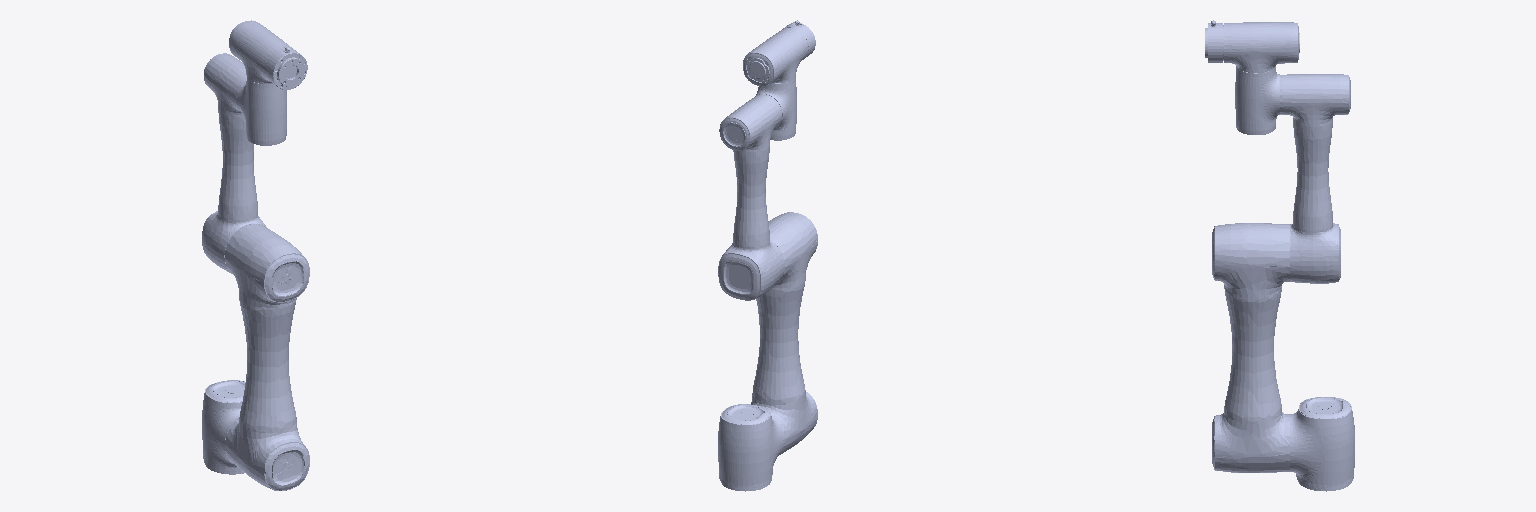
The robot description file, URDF, robot "cr5_robot":
<?xml version="1.0" ?>
<!-- =================================================================================== -->
<!-- |    This document was autogenerated by xacro from /tmp/claude-0/-home-claude/8f5dd28e-fe63-5f45-8f7e-d1a0395364a9/scratchpad/repos/dobotcr/cra_description/urdf/cr5_robot.xacro | -->
<!-- |    EDITING THIS FILE BY HAND IS NOT RECOMMENDED                                 | -->
<!-- =================================================================================== -->
<robot name="cr5_robot">
  <link name="dummy_link"/>
  <link name="base_link">
    <inertial>
      <origin rpy="0 0 0" xyz="-7.94481692926771E-06 0.00312979848669993 0.0289305341801692"/>
      <mass value="0.921803441591401"/>
      <inertia ixx="0.00155218443258025" ixy="4.57972945608826E-08" ixz="-1.88985548171397E-07" iyy="0.0013468290665964" iyz="-1.49049888586631E-06" izz="0.00225259728822295"/>
    </inertial>
    <visual>
      <origin rpy="0 0 0" xyz="0 0 0"/>
      <geometry>
        <mesh filename="package://cra_description/meshes/base_link.STL"/>
      </geometry>
      <material name="">
        <color rgba="0.792156862745098 0.819607843137255 0.933333333333333 1"/>
      </material>
    </visual>
    <collision>
      <origin rpy="0 0 0" xyz="0 0 0"/>
      <geometry>
        <mesh filename="package://cra_description/meshes/base_link.STL"/>
      </geometry>
    </collision>
  </link>
  <joint name="dummy_joint" type="fixed">
    <parent link="dummy_link"/>
    <child link="base_link"/>
  </joint>
  <link name="world"/>
  <joint name="world_joint" type="fixed">
    <origin rpy="0 0 0" xyz="0 0 0.03"/>
    <parent link="world"/>
    <child link="dummy_link"/>
  </joint>
  <link name="Link1">
    <inertial>
      <origin rpy="0 0 0" xyz="1.73246183103459E-07 -0.00325457191611467 -0.00763347019440543"/>
      <mass value="1.61309076753593"/>
      <inertia ixx="0.00546783618974324" ixy="1.55105105896333E-09" ixz="-7.41656921043421E-08" iyy="0.00525034621721433" iyz="-9.78846785618848E-05" izz="0.00340956817185818"/>
    </inertial>
    <visual>
      <origin rpy="0 0 0" xyz="0 0 0"/>
      <geometry>
        <mesh filename="package://cra_description/meshes/J1.STL"/>
      </geometry>
      <material name="">
        <color rgba="0.792156862745098 0.819607843137255 0.933333333333333 1"/>
      </material>
    </visual>
    <collision>
      <origin rpy="0 0 0" xyz="0 0 0"/>
      <geometry>
        <mesh filename="package://cra_description/meshes/J1.STL"/>
      </geometry>
    </collision>
  </link>
  <joint name="joint1" type="revolute">
    <origin rpy="0 0 0" xyz="0 0 0.147"/>
    <parent link="base_link"/>
    <child link="Link1"/>
    <axis xyz="0 0 1"/>
    <limit effort="0" lower="-6.28" upper="6.28" velocity="0"/>
  </joint>
  <link name="Link2">
    <inertial>
      <origin rpy="0 0 0" xyz="-0.213514541447242 -0.000174145825908622 0.142532293229243"/>
      <mass value="5.52502766431306"/>
      <inertia ixx="0.0135390102321012" ixy="-0.000132792191512557" ixz="1.08942594671362E-06" iyy="0.175351190928579" iyz="-1.55761894405212E-07" izz="0.171155665794094"/>
    </inertial>
    <visual>
      <origin rpy="0 0 0" xyz="0 0 0"/>
      <geometry>
        <mesh filename="package://cra_description/meshes/J2.STL"/>
      </geometry>
      <material name="">
        <color rgba="0.792156862745098 0.819607843137255 0.933333333333333 1"/>
      </material>
    </visual>
    <collision>
      <origin rpy="0 0 0" xyz="0 0 0"/>
      <geometry>
        <mesh filename="package://cra_description/meshes/J2.STL"/>
      </geometry>
    </collision>
  </link>
  <joint name="joint2" type="revolute">
    <origin rpy="1.5708 1.5708 0" xyz="0 0 0"/>
    <parent link="Link1"/>
    <child link="Link2"/>
    <axis xyz="0 0 1"/>
    <limit effort="0" lower="-6.28" upper="6.28" velocity="0"/>
  </joint>
  <link name="Link3">
    <inertial>
      <origin rpy="0 0 0" xyz="-0.152341668261688 0.000149359452503151 0.0226831470311876"/>
      <mass value="2.85389421082174"/>
      <inertia ixx="0.00426233866492008" ixy="5.97680353890416E-05" ixz="0.00145366515031237" iyy="0.0651295114823361" iyz="-1.39806459057094E-06" izz="0.0643864464792015"/>
    </inertial>
    <visual>
      <origin rpy="0 0 0" xyz="0 0 0"/>
      <geometry>
        <mesh filename="package://cra_description/meshes/J3.STL"/>
      </geometry>
      <material name="">
        <color rgba="0.792156862745098 0.819607843137255 0.933333333333333 1"/>
      </material>
    </visual>
    <collision>
      <origin rpy="0 0 0" xyz="0 0 0"/>
      <geometry>
        <mesh filename="package://cra_description/meshes/J3.STL"/>
      </geometry>
    </collision>
  </link>
  <joint name="joint3" type="revolute">
    <origin rpy="0 0 0" xyz="-0.427 -0.00034866 0"/>
    <parent link="Link2"/>
    <child link="Link3"/>
    <axis xyz="0 0 1"/>
    <limit effort="0" lower="-2.792" upper="2.792" velocity="0"/>
  </joint>
  <link name="Link4">
    <inertial>
      <origin rpy="0 0 0" xyz="5.59497173461253E-08 -0.00203370549966442 -0.00155327517554493"/>
      <mass value="0.670967728058518"/>
      <inertia ixx="0.00165215048696393" ixy="6.99884063757388E-10" ixz="-2.82735061927927E-09" iyy="0.000679018426564622" iyz="-3.9331196747873E-05" izz="0.00161207334026771"/>
    </inertial>
    <visual>
      <origin rpy="0 0 0" xyz="0 0 0"/>
      <geometry>
        <mesh filename="package://cra_description/meshes/J4.STL"/>
      </geometry>
      <material name="">
        <color rgba="0.792156862745098 0.819607843137255 0.933333333333333 1"/>
      </material>
    </visual>
    <collision>
      <origin rpy="0 0 0" xyz="0 0 0"/>
      <geometry>
        <mesh filename="package://cra_description/meshes/J4.STL"/>
      </geometry>
    </collision>
  </link>
  <joint name="joint4" type="revolute">
    <origin rpy="0 0 -1.5708" xyz="-0.357 0.00034866 0.141"/>
    <parent link="Link3"/>
    <child link="Link4"/>
    <axis xyz="0 0 1"/>
    <limit effort="0" lower="-6.28" upper="6.28" velocity="0"/>
  </joint>
  <link name="Link5">
    <inertial>
      <origin rpy="0 0 0" xyz="1.66839344582068E-08 -0.00612503200433553 -0.00127182253467861"/>
      <mass value="0.741136954745254"/>
      <inertia ixx="0.00212858333782698" ixy="-3.05114118302956E-08" ixz="1.84587334372261E-08" iyy="0.000739514141641333" iyz="5.38479498016834E-05" izz="0.00208815449047131"/>
    </inertial>
    <visual>
      <origin rpy="0 0 0" xyz="0 0 0"/>
      <geometry>
        <mesh filename="package://cra_description/meshes/J5.STL"/>
      </geometry>
      <material name="">
        <color rgba="0.792156862745098 0.819607843137255 0.933333333333333 1"/>
      </material>
    </visual>
    <collision>
      <origin rpy="0 0 0" xyz="0 0 0"/>
      <geometry>
        <mesh filename="package://cra_description/meshes/J5.STL"/>
      </geometry>
    </collision>
  </link>
  <joint name="joint5" type="revolute">
    <origin rpy="1.5708 0 0" xyz="0 -0.116 0"/>
    <parent link="Link4"/>
    <child link="Link5"/>
    <axis xyz="0 0 1"/>
    <limit effort="0" lower="-6.28" upper="6.28" velocity="0"/>
  </joint>
  <link name="Link6">
    <inertial>
      <origin rpy="0 0 0" xyz="4.94396980619616E-11 9.3763228635857E-05 -0.019285436425589"/>
      <mass value="0.157885369717385"/>
      <inertia ixx="7.94006759268348E-05" ixy="4.6621042011945E-15" ixz="2.94413450080265E-14" iyy="7.91691792019657E-05" iyz="-9.61313747365424E-08" izz="0.000130860179835048"/>
    </inertial>
    <visual>
      <origin rpy="0 0 0" xyz="0 0 0"/>
      <geometry>
        <mesh filename="package://cra_description/meshes/J6.STL"/>
      </geometry>
      <material name="">
        <color rgba="0.792156862745098 0.819607843137255 0.933333333333333 1"/>
      </material>
    </visual>
    <collision>
      <origin rpy="0 0 0" xyz="0 0 0"/>
      <geometry>
        <mesh filename="package://cra_description/meshes/J6.STL"/>
      </geometry>
    </collision>
  </link>
  <joint name="joint6" type="revolute">
    <origin rpy="-1.5708 0 0" xyz="0 0.105 0"/>
    <parent link="Link5"/>
    <child link="Link6"/>
    <axis xyz="0 0 1"/>
    <limit effort="0" lower="-6.28" upper="6.28" velocity="0"/>
  </joint>
  <gazebo reference="base_link">
    <gravity>false</gravity>
    <selfCollide>true</selfCollide>
  </gazebo>
  <gazebo reference="Link1">
    <gravity>false</gravity>
    <selfCollide>true</selfCollide>
  </gazebo>
  <gazebo reference="Link2">
    <gravity>false</gravity>
    <selfCollide>true</selfCollide>
  </gazebo>
  <gazebo reference="Link3">
    <gravity>false</gravity>
    <selfCollide>true</selfCollide>
  </gazebo>
  <gazebo reference="Link4">
    <gravity>false</gravity>
    <selfCollide>true</selfCollide>
  </gazebo>
  <gazebo reference="Link5">
    <gravity>false</gravity>
    <selfCollide>true</selfCollide>
  </gazebo>
  <gazebo reference="Link6">
    <gravity>false</gravity>
    <selfCollide>true</selfCollide>
  </gazebo>
  <!-- 在运行demo.launch.py时，需要注释这个ros2_control节点，因为它使用了xxx.ros2_control.xacro来生成了ros2_control节点-->
  <ros2_control name="GazeboSystem" type="system">
    <hardware>
      <plugin>gazebo_ros2_control/GazeboSystem</plugin>
    </hardware>
    <joint name="joint1">
      <command_interface name="position">
        <param name="min">-1</param>
        <param name="max">1</param>
      </command_interface>
      <state_interface name="position">
        <param name="initial_value">0.0</param>
      </state_interface>
      <state_interface name="velocity"/>
    </joint>
    <joint name="joint2">
      <command_interface name="position">
        <param name="min">-1</param>
        <param name="max">1</param>
      </command_interface>
      <state_interface name="position">
        <param name="initial_value">0.0</param>
      </state_interface>
      <state_interface name="velocity"/>
    </joint>
    <joint name="joint3">
      <command_interface name="position">
        <param name="min">-1</param>
        <param name="max">1</param>
      </command_interface>
      <state_interface name="position">
        <param name="initial_value">0.0</param>
      </state_interface>
      <state_interface name="velocity"/>
    </joint>
    <joint name="joint4">
      <command_interface name="position">
        <param name="min">-1</param>
        <param name="max">1</param>
      </command_interface>
      <state_interface name="position">
        <param name="initial_value">0.0</param>
      </state_interface>
      <state_interface name="velocity"/>
    </joint>
    <joint name="joint5">
      <command_interface name="position">
        <param name="min">-1</param>
        <param name="max">1</param>
      </command_interface>
      <state_interface name="position">
        <param name="initial_value">0.0</param>
      </state_interface>
      <state_interface name="velocity"/>
    </joint>
    <joint name="joint6">
      <command_interface name="position">
        <param name="min">-1</param>
        <param name="max">1</param>
      </command_interface>
      <state_interface name="position">
        <param name="initial_value">0.0</param>
      </state_interface>
      <state_interface name="velocity"/>
    </joint>
  </ros2_control>
  <gazebo>
    <plugin filename="libgazebo_ros2_control.so" name="gazebo_ros2_control">
      <parameters> /tmp/claude-0/-home-claude/8f5dd28e-fe63-5f45-8f7e-d1a0395364a9/scratchpad/repos/dobotcr/cr5_moveit/config/ros2_controllers.yaml</parameters>
      <robot_param_node>robot_state_publisher</robot_param_node>
    </plugin>
  </gazebo>
</robot>

--- Facts derived from the render (not from the file) ---
The picture shows the robot from 3 angles, left to right: view 1: azimuth 30°, elevation 25°; view 2: azimuth 150°, elevation 25°; view 3: azimuth 270°, elevation 25°; orthographic projection.
Model cr5_robot with 9 links and 8 joints (6 revolute, 2 fixed), rooted at world, posed every joint at zero.
Visible links, largest first — view 1: Link2, Link3, Link1, Link4, Link5, Link6; view 2: Link2, Link3, Link1, Link5, Link4; view 3: Link2, Link3, Link1, Link5, Link4, Link6.
Link boxes in pixels (x1,y1,x2,y2): Link2: (225,224,309,490); Link3: (202,53,265,273); Link1: (202,380,245,474); Link4: (237,78,286,145); Link5: (229,20,292,83); Link6: (266,47,307,89); Link2: (751,212,817,454); Link3: (718,94,784,300); Link1: (718,404,784,491); Link5: (743,28,808,86); Link4: (755,78,796,140); Link2: (1212,223,1289,472); Link3: (1280,74,1350,283); Link1: (1290,397,1354,491); Link5: (1223,22,1299,72); Link4: (1235,67,1279,134); Link6: (1205,20,1222,62).
Size in the robot's own frame: 0.1234 by 0.3074 by 1.03 metres.
6 mesh visuals loaded from 7 distinct referenced files (6 binary STL); not drawn: 1 (reference not matched to a file when rendering).
